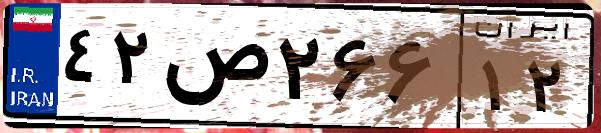1: (475, 38, 525, 113)
2: (270, 28, 330, 110), (525, 38, 570, 115), (110, 28, 158, 98)
4: (57, 26, 110, 100)
6: (385, 28, 445, 110), (330, 28, 385, 110)
ص: (158, 20, 270, 120)
